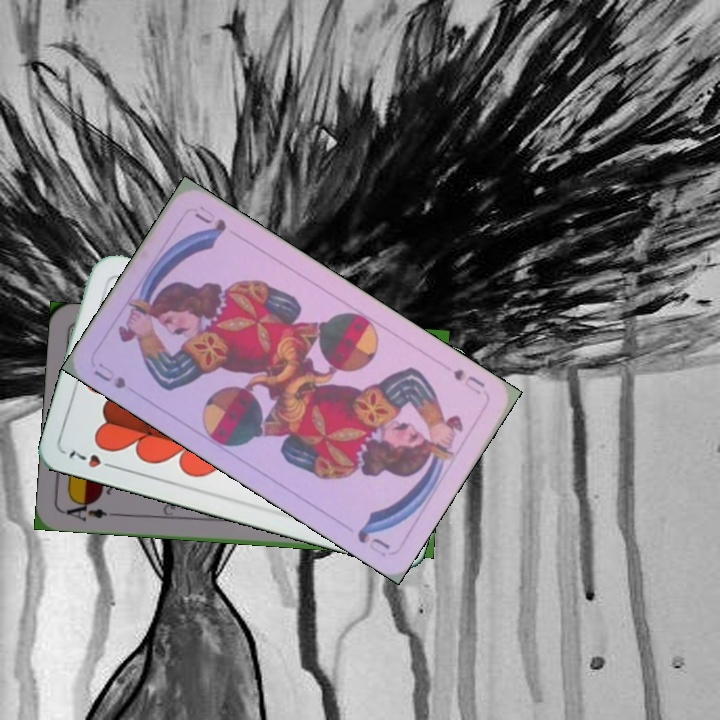EA: (60, 496, 119, 524)
H7: (65, 446, 121, 472)
SU: (89, 358, 129, 392), (449, 365, 488, 390)
